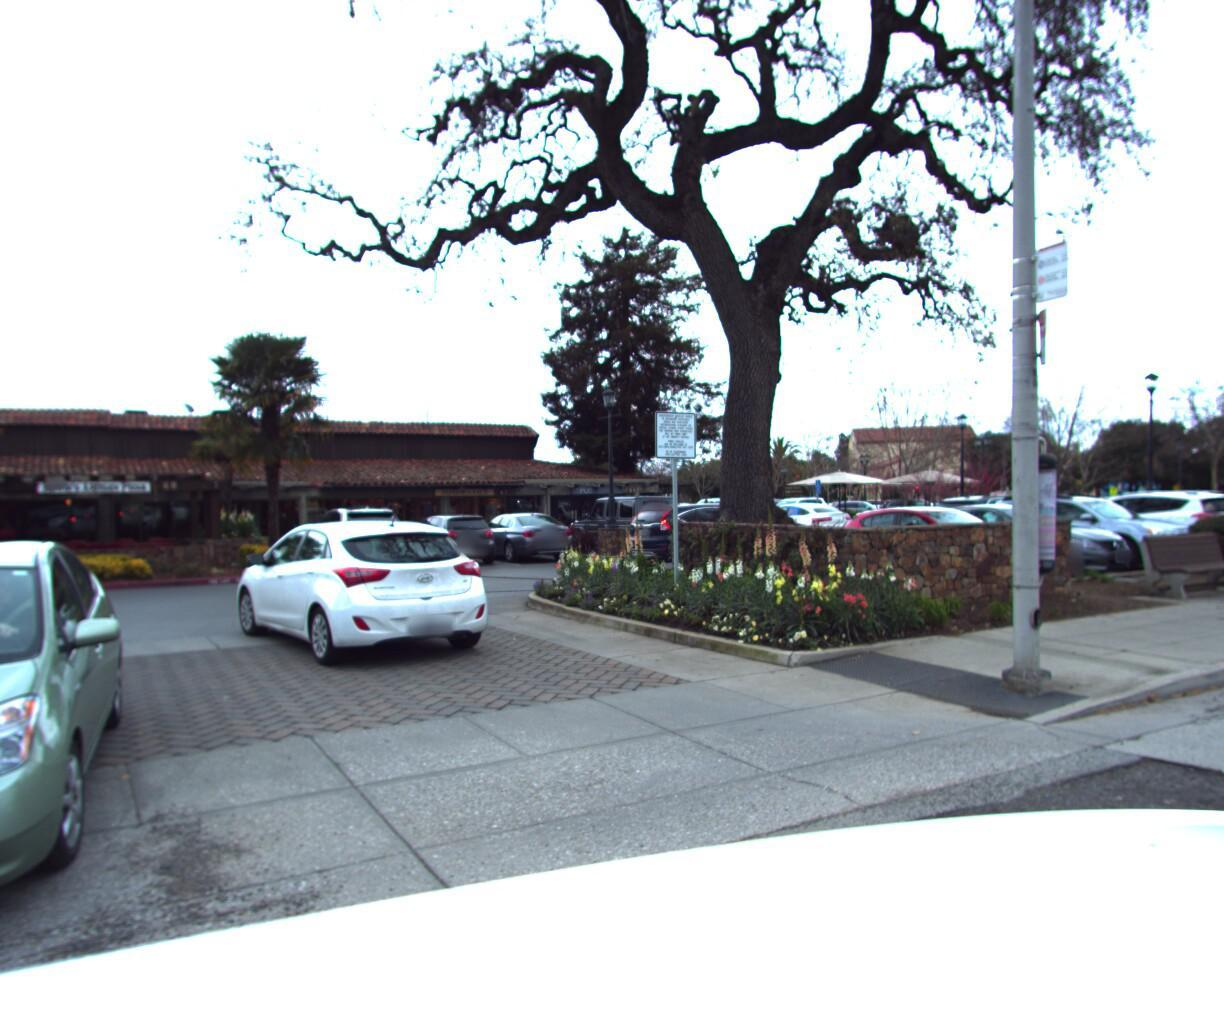car: (0, 523, 134, 1024), (224, 510, 501, 673), (812, 498, 1082, 589), (972, 479, 1221, 571), (895, 496, 1151, 579), (1029, 480, 1224, 565), (1154, 491, 1224, 552), (1200, 489, 1224, 544)
